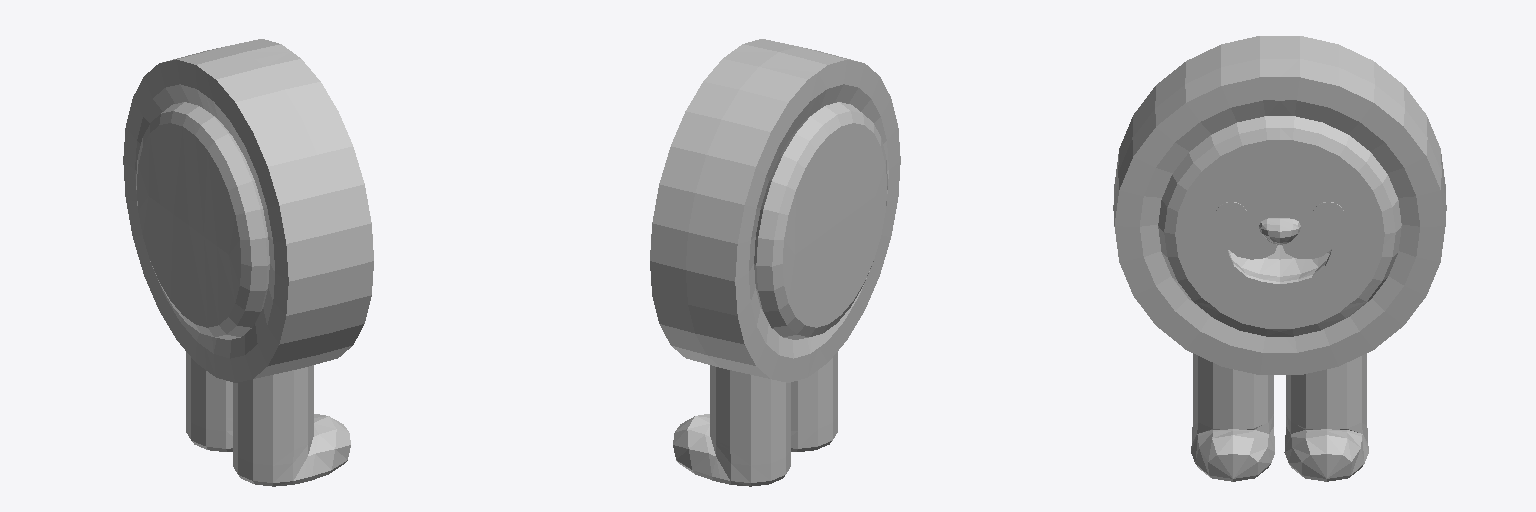
Rendered from C. Round.obj.
3 views of the same model, side by side, from view 1: azimuth 30°, elevation 25°; view 2: azimuth 150°, elevation 25°; view 3: azimuth 270°, elevation 25° (orthographic).
Visible parts, largest first — view 1: K.Round_Cylinder.004; view 2: K.Round_Cylinder.004; view 3: K.Round_Cylinder.004.
Boxes of the visible parts, box(x1,y1,x2,y2) form: K.Round_Cylinder.004: box(123, 39, 373, 486); K.Round_Cylinder.004: box(650, 39, 900, 486); K.Round_Cylinder.004: box(1113, 36, 1446, 481).
Bounding box in the file's own units: 6.11 × 17.09 × 13.11.